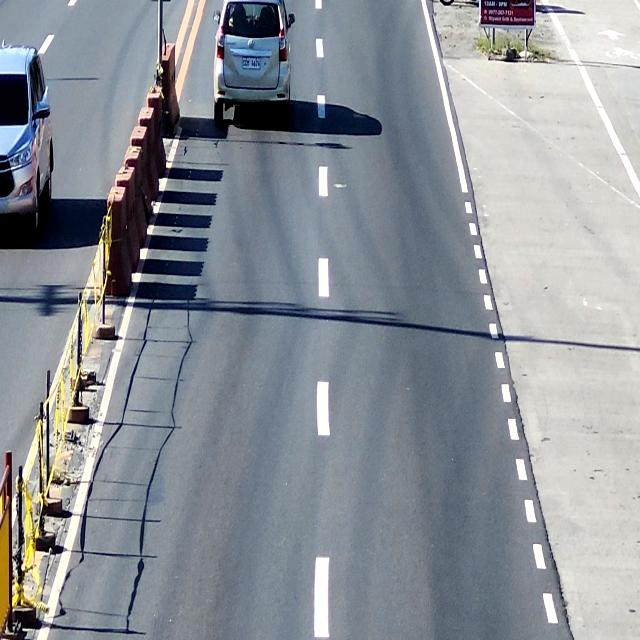Car: (210, 0, 300, 129), (0, 43, 58, 233)
License-Plate: (239, 50, 264, 72)
